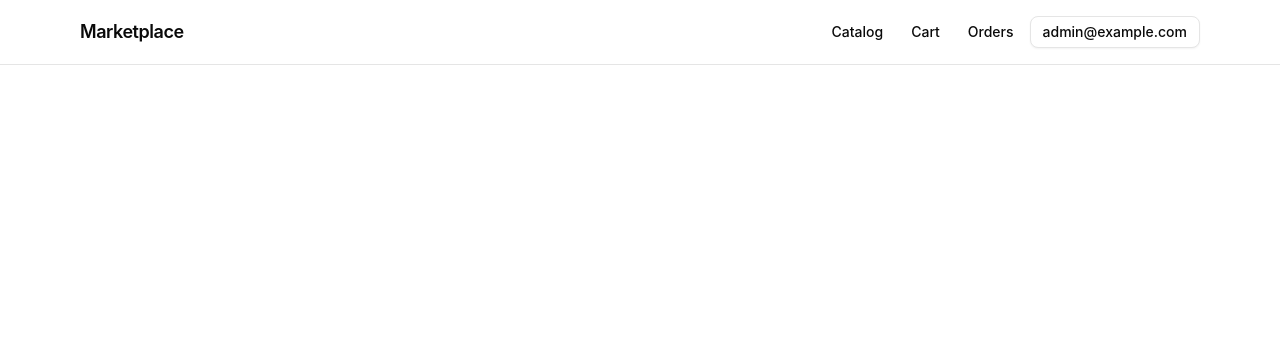
Test: SiteHeader › shows the admin section for admins
Click the button "admin@example.com". click: (1115, 32)
box: [1030, 16, 1200, 48]
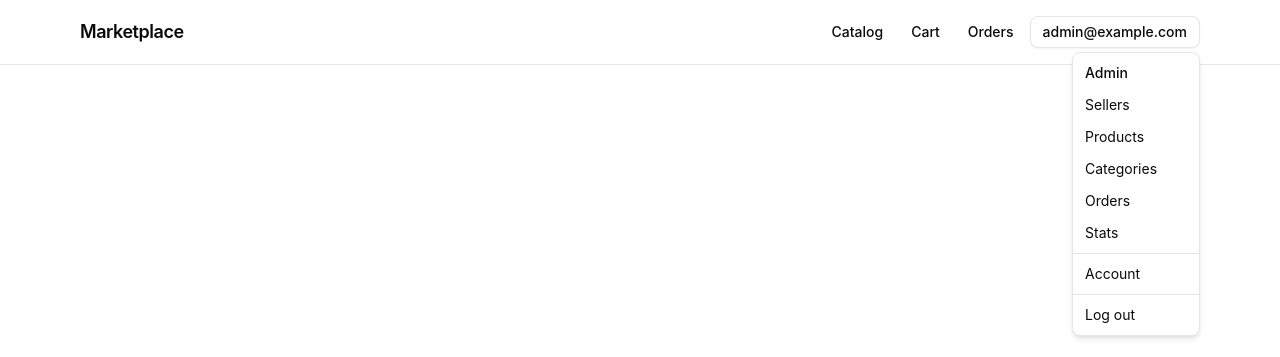
Expected: the menu item "Sellers" is shown, [1085, 96, 1130, 113]
Expected: the menu item "Stats" is shown, [1085, 224, 1118, 241]
